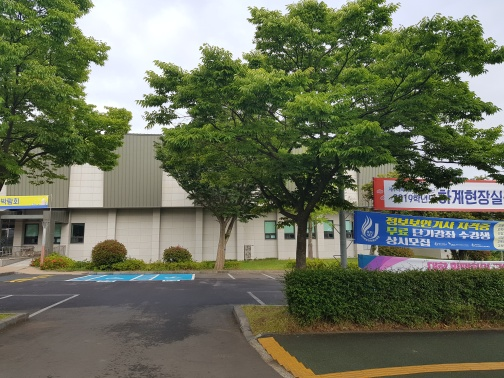Gym: (9, 123, 356, 266), (260, 213, 354, 263)
